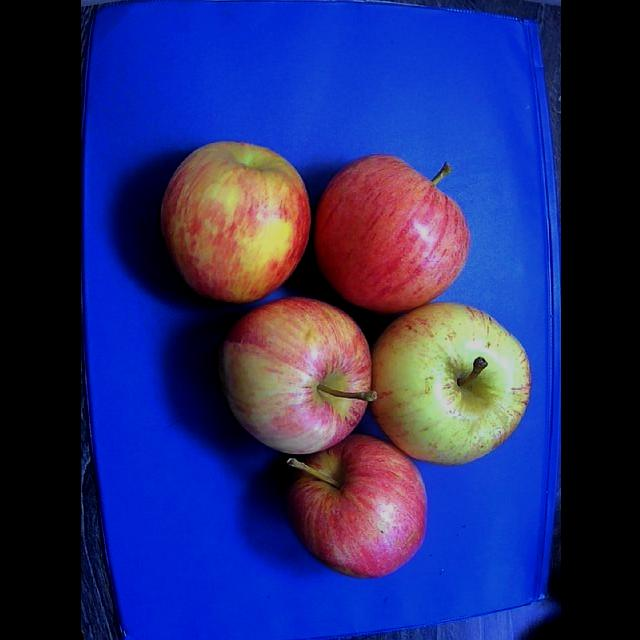manzana: (371, 303, 531, 464), (218, 297, 376, 453), (314, 154, 469, 311), (160, 142, 310, 303), (285, 435, 426, 577)
